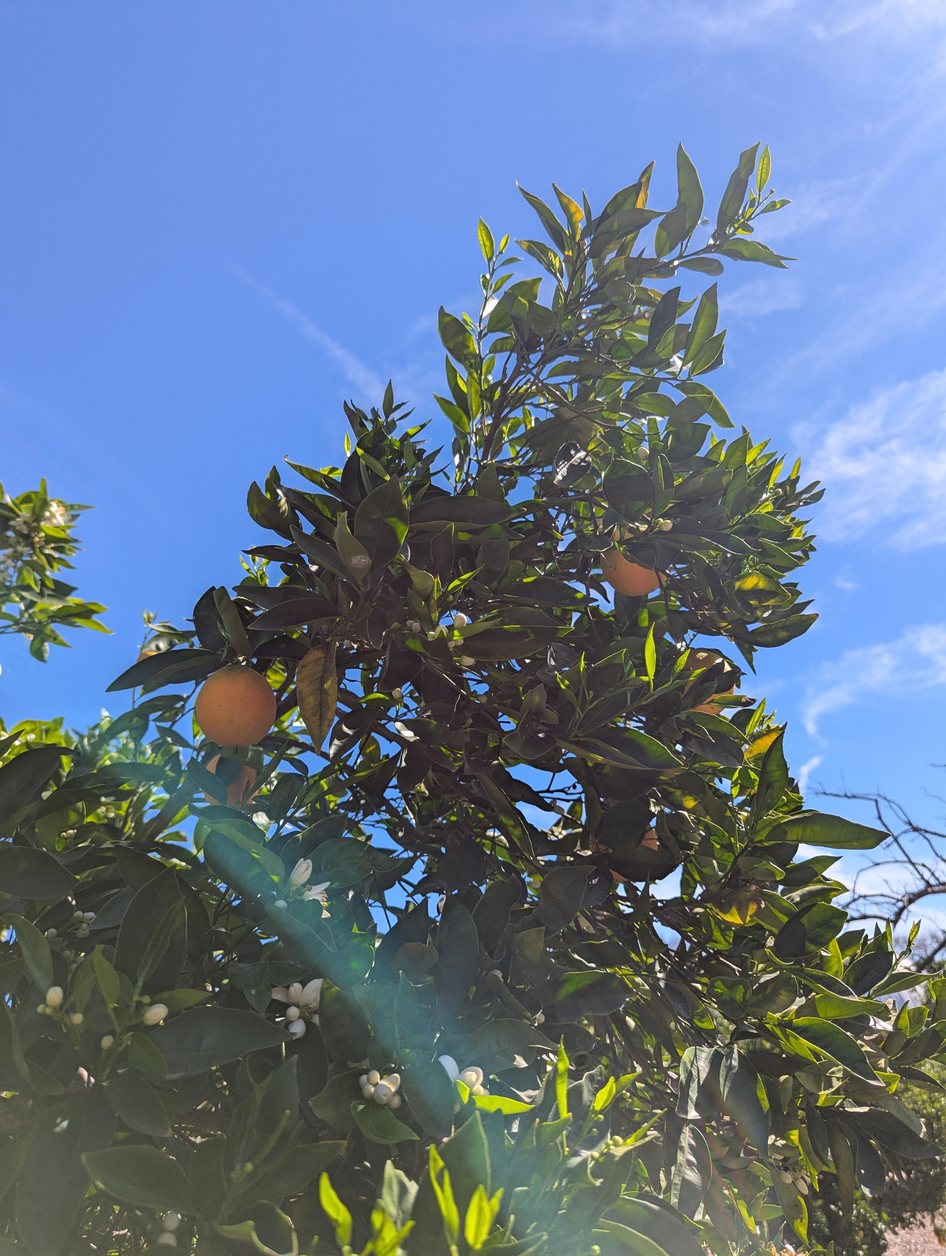orange: (195, 665, 276, 747), (600, 522, 670, 597), (591, 823, 657, 881), (680, 649, 736, 716), (201, 753, 259, 812), (137, 651, 159, 663)
